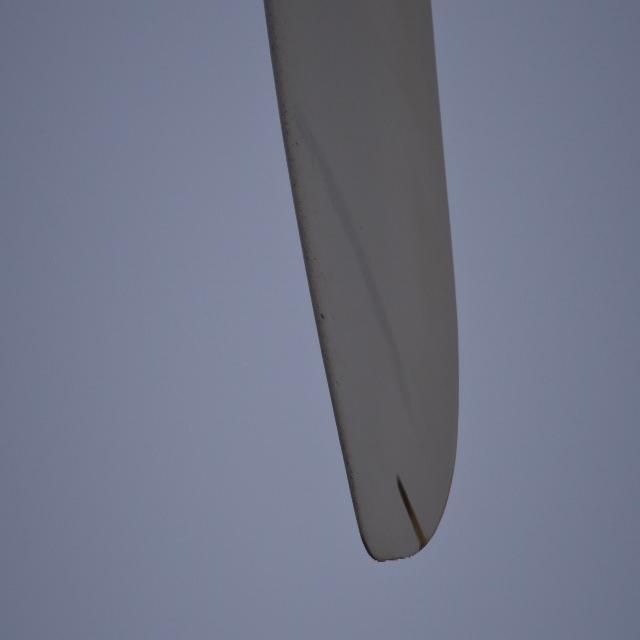Burn Mark: (395, 474, 429, 552)
